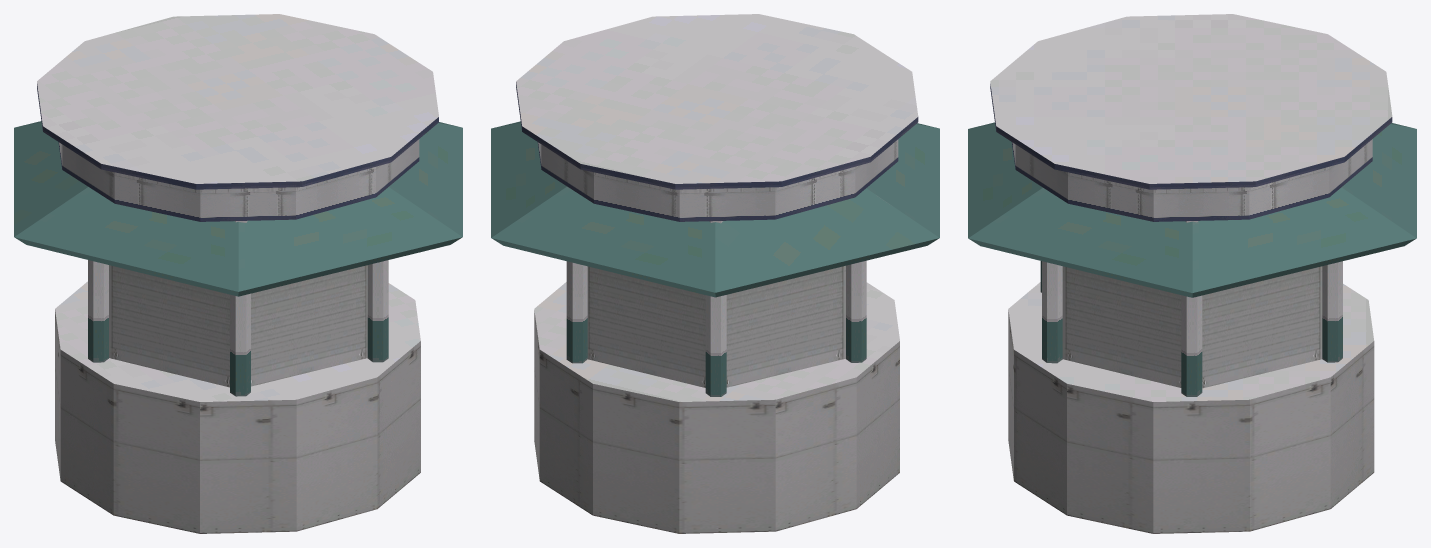
File: vegasbooth01.obj
3 renders of one model, left to right at view 1: azimuth 30°, elevation 25°; view 2: azimuth 150°, elevation 25°; view 3: azimuth 270°, elevation 25°, orthographic.
Visible parts, largest first — view 1: vegasbooth01; view 2: vegasbooth01; view 3: vegasbooth01.
Boxes of the visible parts, x1,y1,x2,y2 form: vegasbooth01: [14, 14, 462, 533]; vegasbooth01: [491, 14, 939, 533]; vegasbooth01: [968, 14, 1416, 533].
Bounding box in the file's own units: 4.37 × 3.33 × 3.78.
4 materials, 4 textured.
